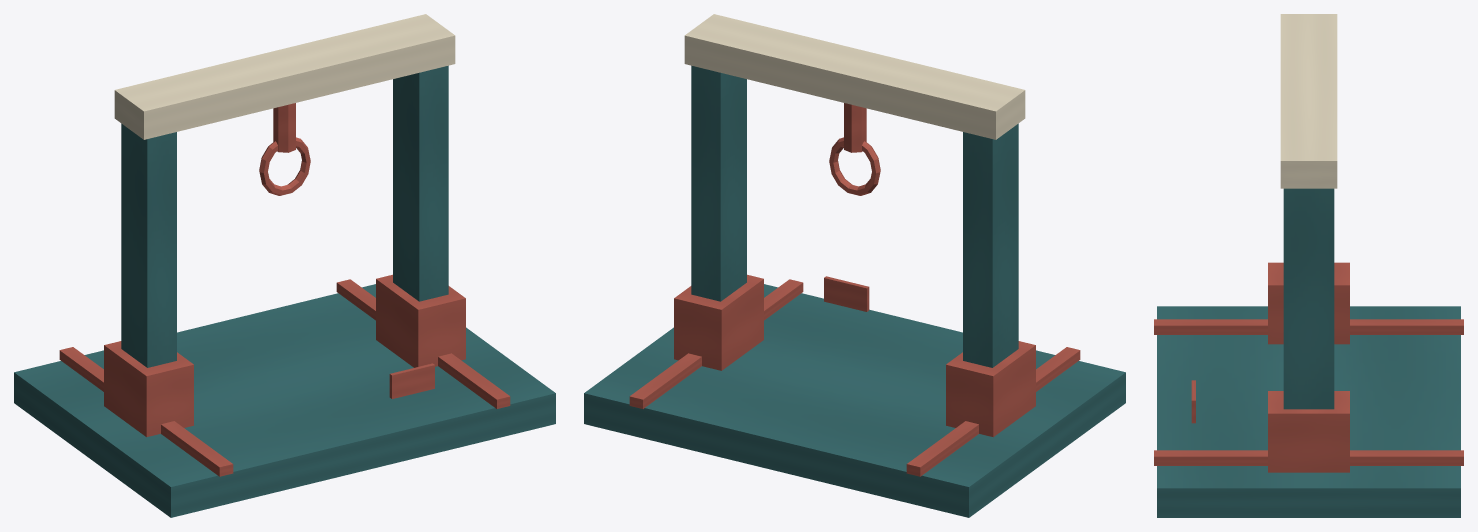
Rendered from atlas100-s038-a02.lod1.glb.
The picture shows the model from 3 angles, left to right: view 1: azimuth 30°, elevation 25°; view 2: azimuth 150°, elevation 25°; view 3: azimuth 270°, elevation 25°; orthographic projection. The views are drawn at different scales.
Visible parts, largest first — view 1: atlas100-s038-a02:part-000, atlas100-s038-a02:part-007, atlas100-s038-a02:part-003, atlas100-s038-a02:part-005, atlas100-s038-a02:part-004, atlas100-s038-a02:part-006, atlas100-s038-a02:part-001, atlas100-s038-a02:part-002, atlas100-s038-a02:part-009, atlas100-s038-a02:part-010, atlas100-s038-a02:part-008; view 2: atlas100-s038-a02:part-000, atlas100-s038-a02:part-007, atlas100-s038-a02:part-003, atlas100-s038-a02:part-005, atlas100-s038-a02:part-006, atlas100-s038-a02:part-004, atlas100-s038-a02:part-001, atlas100-s038-a02:part-002, atlas100-s038-a02:part-009, atlas100-s038-a02:part-010, atlas100-s038-a02:part-008; view 3: atlas100-s038-a02:part-000, atlas100-s038-a02:part-005, atlas100-s038-a02:part-007, atlas100-s038-a02:part-006, atlas100-s038-a02:part-001, atlas100-s038-a02:part-002, atlas100-s038-a02:part-004.
Part boxes in pixels (x1,y1,x2,y2): atlas100-s038-a02:part-000: [14, 284, 555, 517]; atlas100-s038-a02:part-007: [114, 14, 455, 139]; atlas100-s038-a02:part-003: [121, 123, 176, 367]; atlas100-s038-a02:part-005: [393, 65, 448, 301]; atlas100-s038-a02:part-004: [104, 341, 193, 437]; atlas100-s038-a02:part-006: [376, 274, 465, 367]; atlas100-s038-a02:part-001: [59, 347, 233, 476]; atlas100-s038-a02:part-002: [336, 279, 510, 408]; atlas100-s038-a02:part-009: [259, 137, 310, 195]; atlas100-s038-a02:part-010: [389, 363, 434, 398]; atlas100-s038-a02:part-008: [273, 103, 295, 152]; atlas100-s038-a02:part-000: [584, 284, 1125, 517]; atlas100-s038-a02:part-007: [684, 14, 1025, 139]; atlas100-s038-a02:part-003: [963, 123, 1018, 367]; atlas100-s038-a02:part-005: [691, 65, 746, 301]; atlas100-s038-a02:part-006: [674, 274, 763, 370]; atlas100-s038-a02:part-004: [946, 341, 1035, 437]; atlas100-s038-a02:part-001: [906, 347, 1080, 476]; atlas100-s038-a02:part-002: [629, 279, 803, 408]; atlas100-s038-a02:part-009: [829, 137, 880, 195]; atlas100-s038-a02:part-010: [824, 276, 869, 311]; atlas100-s038-a02:part-008: [844, 103, 866, 152]; atlas100-s038-a02:part-000: [1157, 306, 1460, 517]; atlas100-s038-a02:part-005: [1283, 188, 1334, 409]; atlas100-s038-a02:part-007: [1280, 14, 1337, 188]; atlas100-s038-a02:part-006: [1268, 391, 1349, 472]; atlas100-s038-a02:part-001: [1154, 319, 1463, 334]; atlas100-s038-a02:part-002: [1154, 450, 1463, 465]; atlas100-s038-a02:part-004: [1268, 262, 1349, 344].
Bounding box in the file's own units: 3.4 × 2.96 × 2.45.
3 materials, 3 textured.
